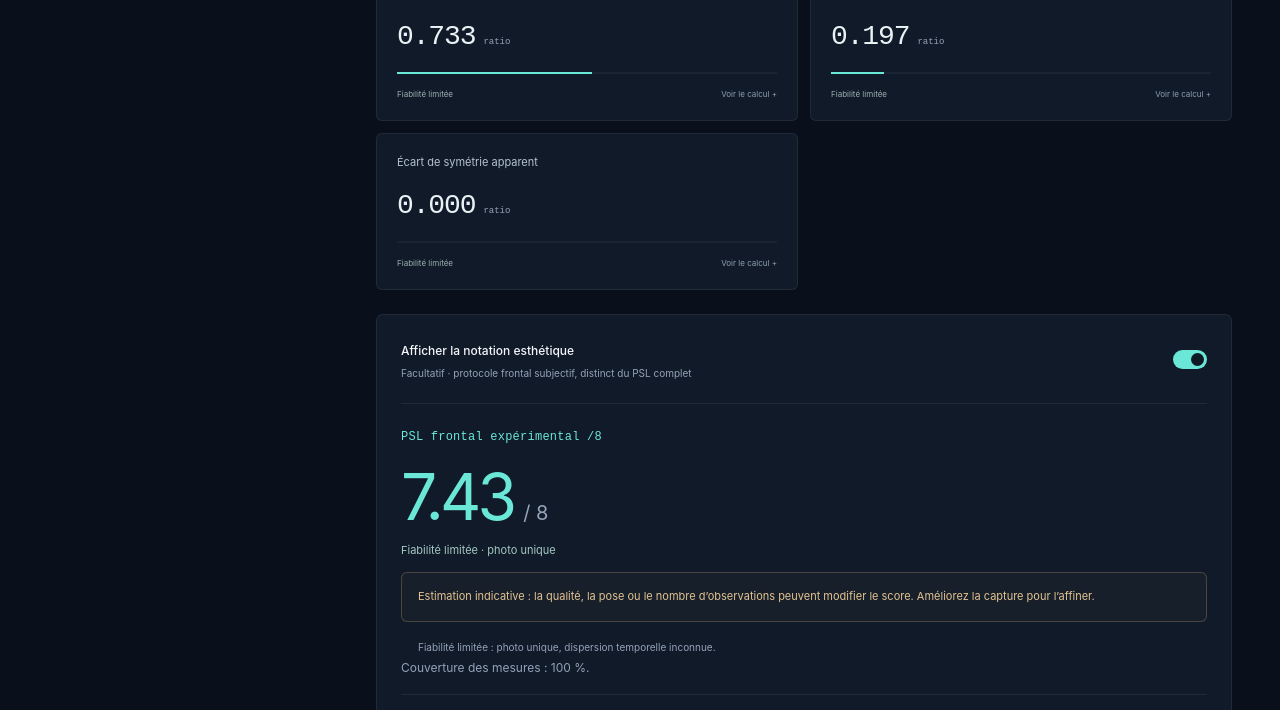
honest partial report › shows unavailable global score, details and supports hiding aesthetic scores
The image size is (1280, 710).
(page scrolled)
Expected: the text "PSL frontal expérimental /8" is shown, [401,430,602,444]
Click the checkbox labelled "Afficher la notation esthétique". click: (1190, 360)
box: [1173,350,1207,369]
(page scrolled)
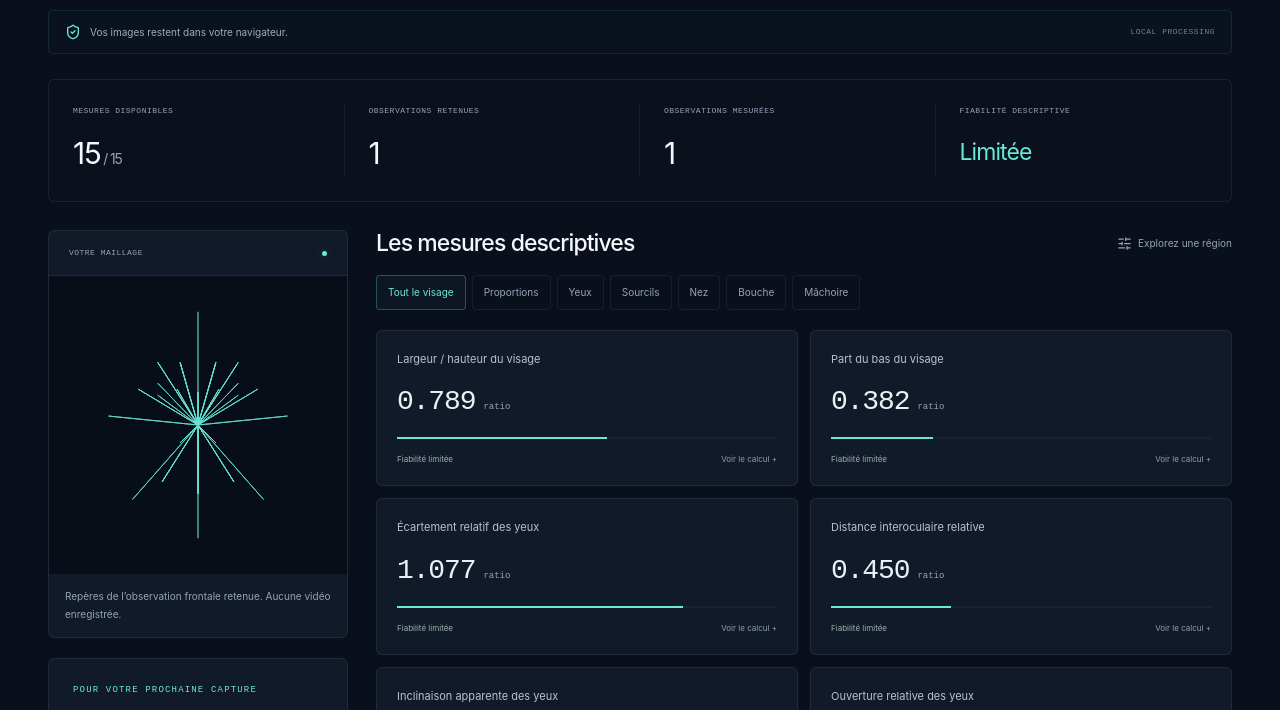
Expected: the text "Largeur / hauteur du visage" is shown, [397,352,540,366]
Expected: the text "PSL frontal expérimental /8" is gone
